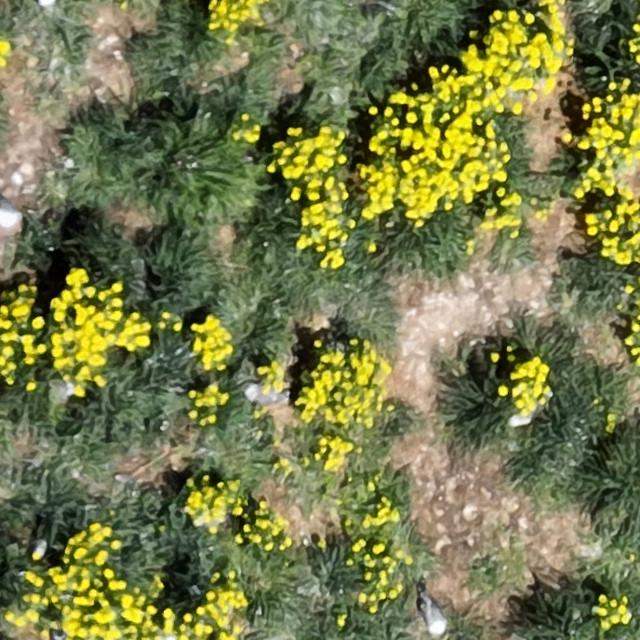umineko: (243, 387, 288, 405), (425, 600, 448, 635), (36, 0, 58, 6)
